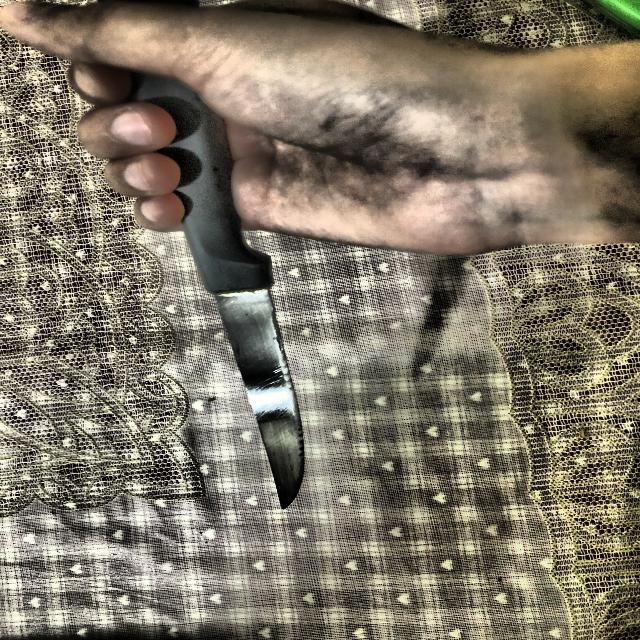knife: (108, 2, 304, 511)
